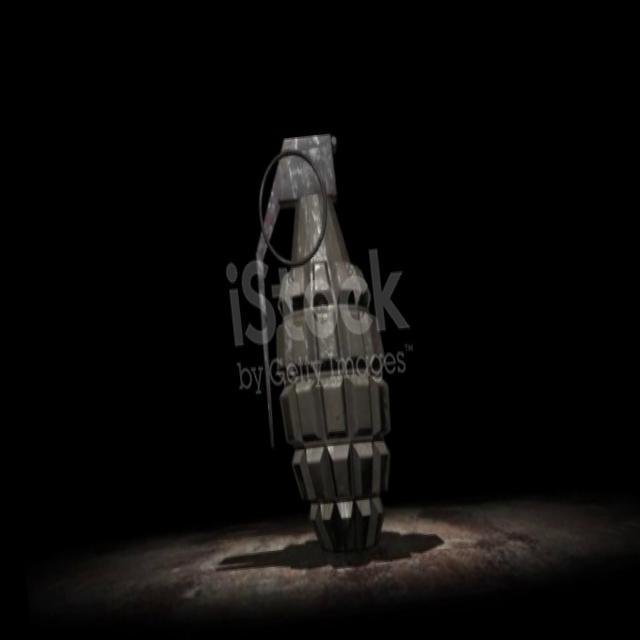grenade: (244, 132, 402, 554)
